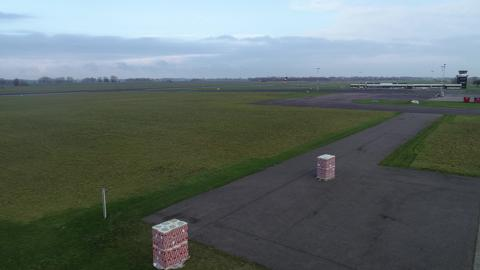RockwoolPallet: (318, 153, 334, 181)
